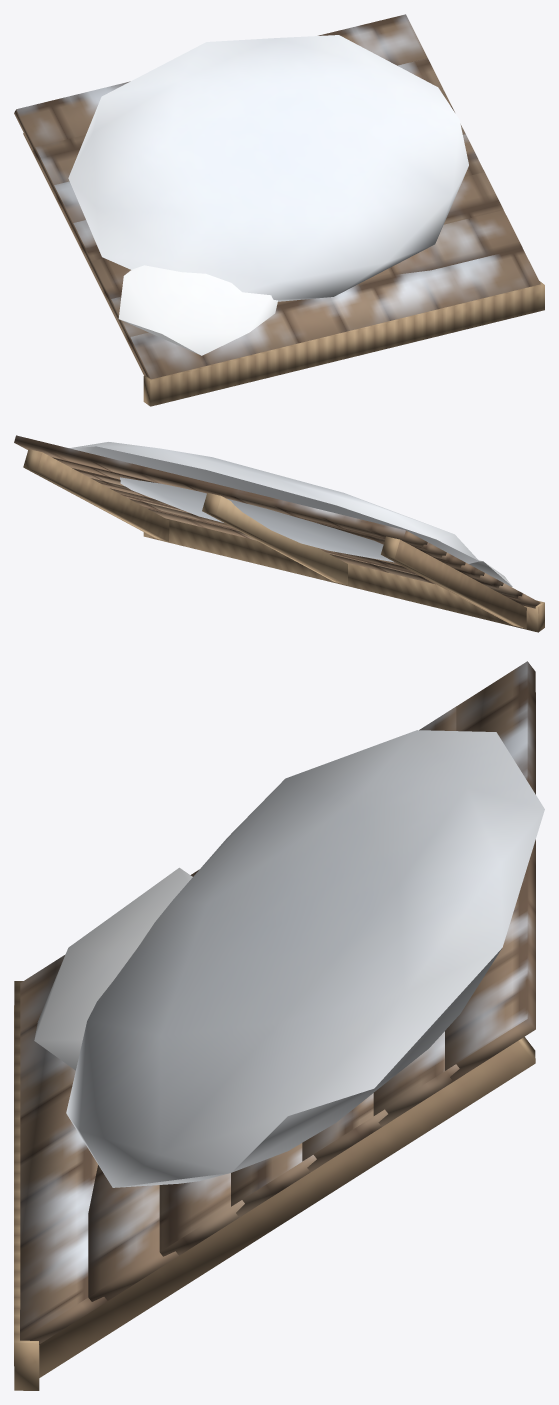
Rendered from cottage_roof_module_lod1.gltf.
3 views of the same model, one above another, from view 1: azimuth 30°, elevation 25°; view 2: azimuth 150°, elevation 25°; view 3: azimuth 270°, elevation 25° (orthographic). The views are drawn at different scales.
Visible parts, largest first — view 1: cottage_roof_module_LOD1; view 2: cottage_roof_module_LOD1; view 3: cottage_roof_module_LOD1.
Boxes of the visible parts, bbox=[...] form: cottage_roof_module_LOD1: bbox=[14, 14, 544, 406]; cottage_roof_module_LOD1: bbox=[14, 435, 544, 632]; cottage_roof_module_LOD1: bbox=[14, 661, 544, 1390].
Bounding box in the file's own units: 3.09 × 1.6 × 1.92.
Materials: 1 (1 with a texture image).
